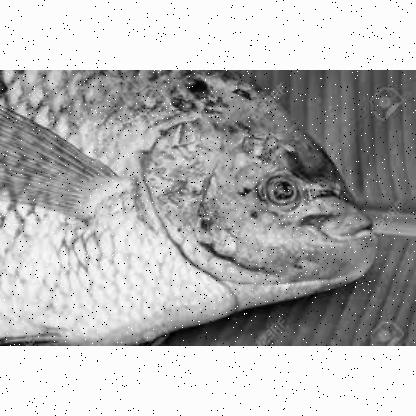gurame: (0, 68, 376, 339)
